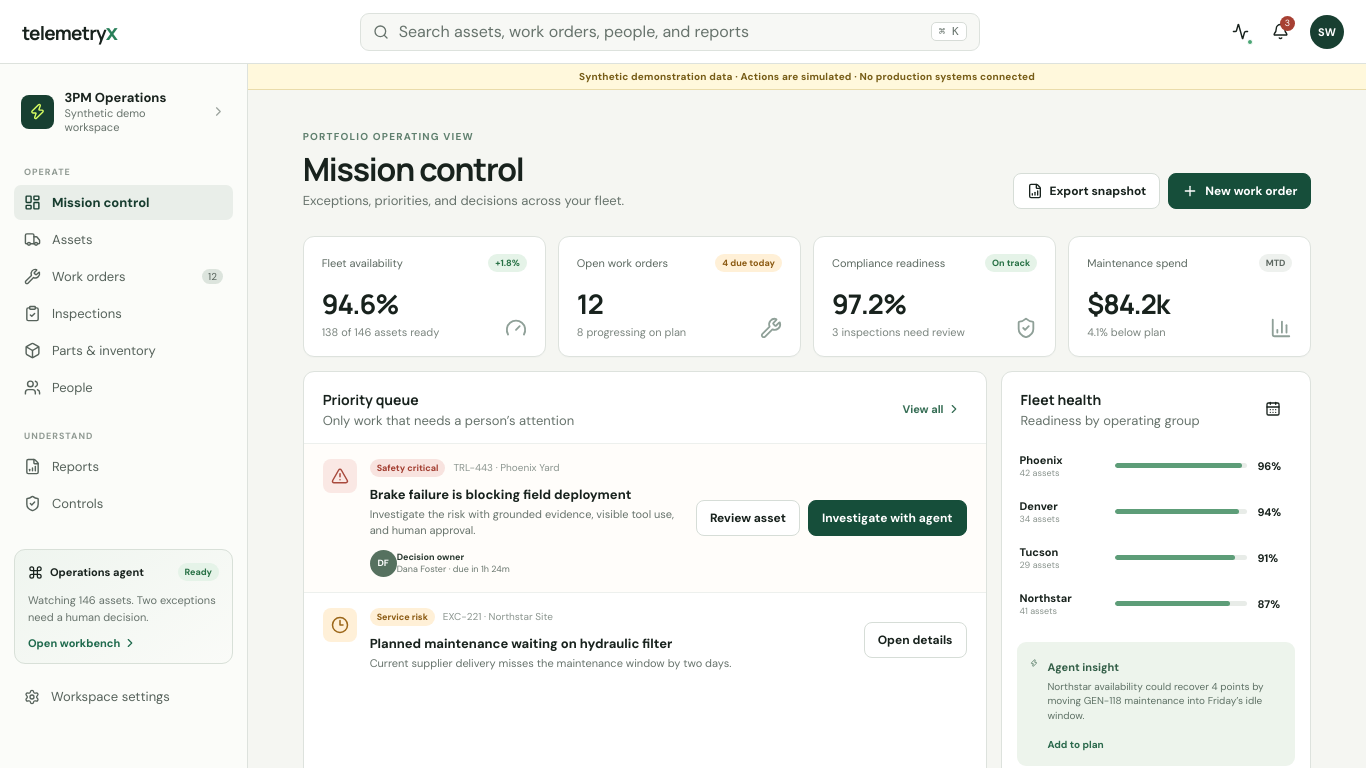
Test case: TelemetryX operating shell › opens an asset record from the fleet registry
The image size is (1366, 768).
What coordinates should you click on to do the following:
click the button "Assets"
I would click on:
 (124, 240)
Its box is [14,222,233,257].
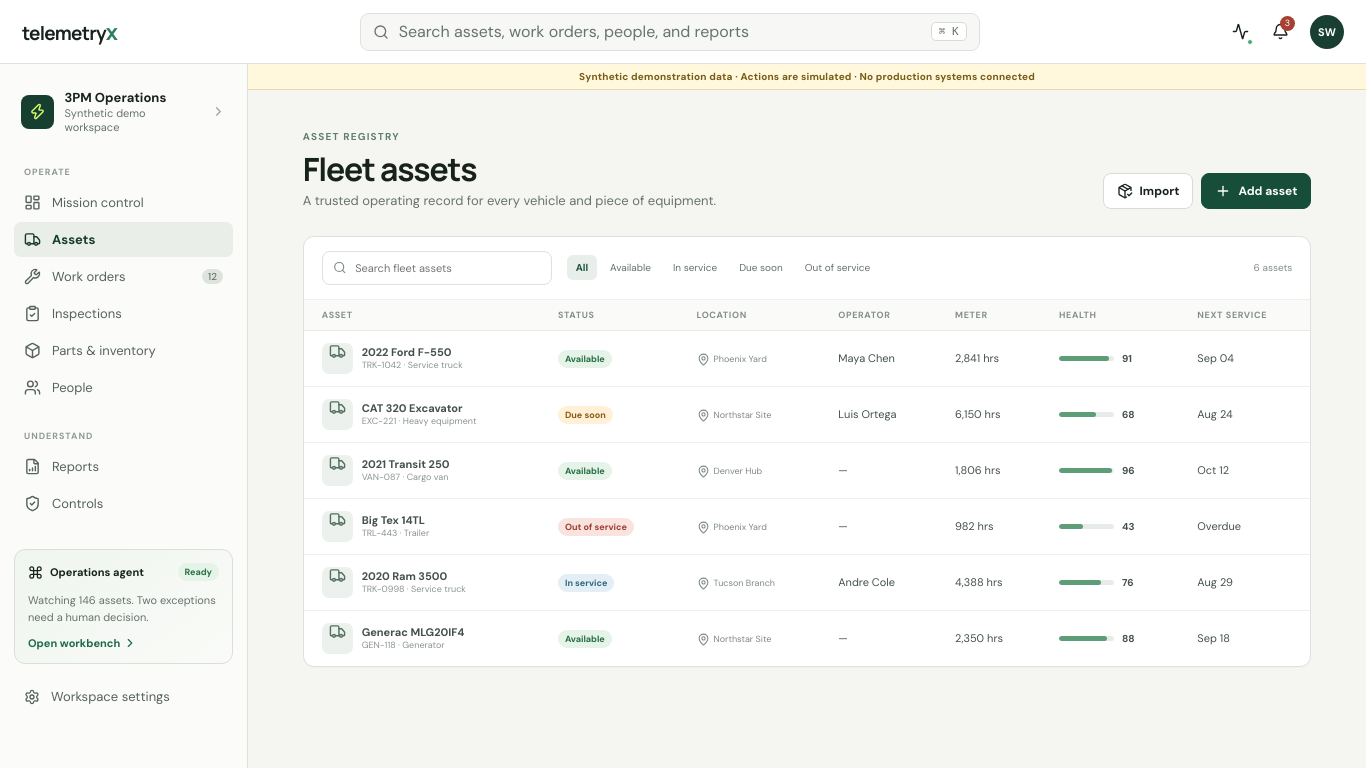
What coordinates should you click on to do the following:
click the text "2022 Ford F-550"
I would click on:
 (412, 352)
Its box is [362,345,463,359].
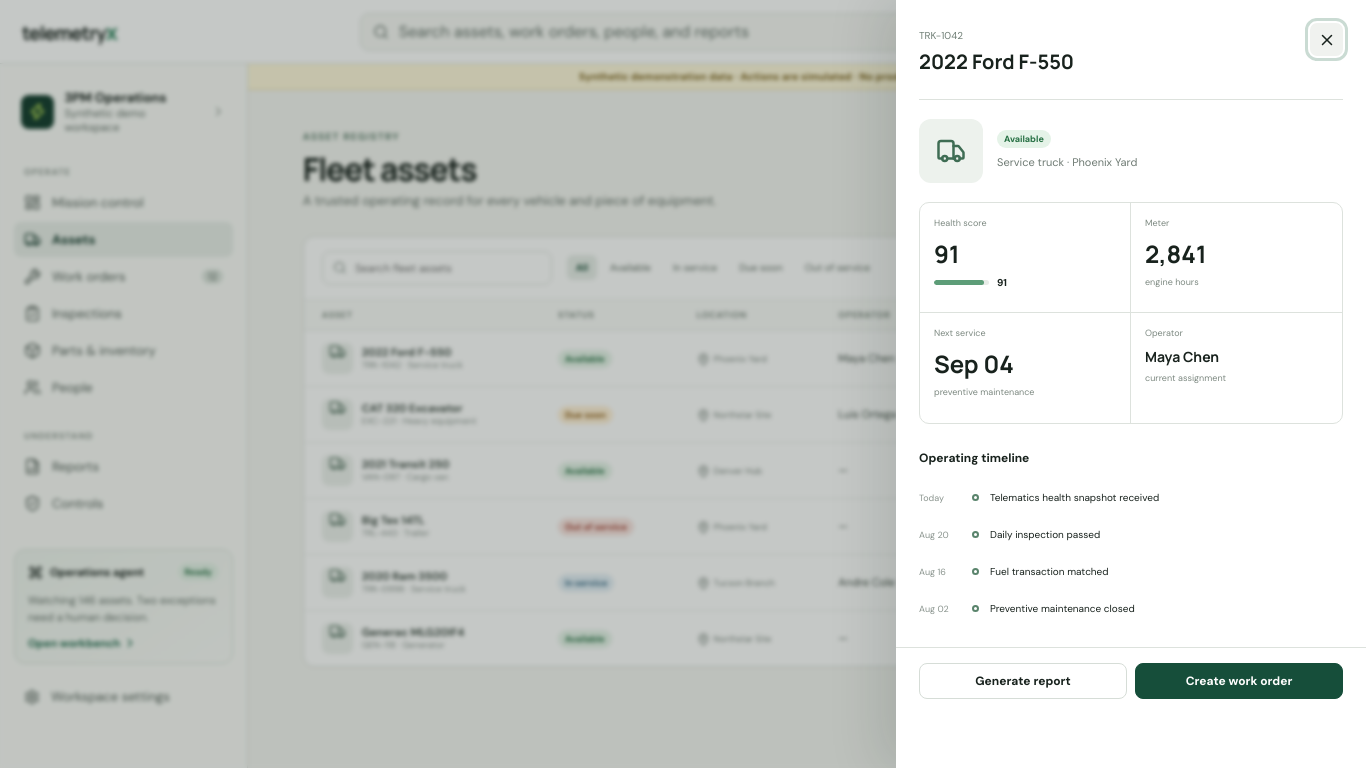
expect the heading "2022 Ford F-550" is shown: met, box [919,48,1074,75]
expect the heading "Operating timeline" is shown: met, box [919,450,1029,466]
